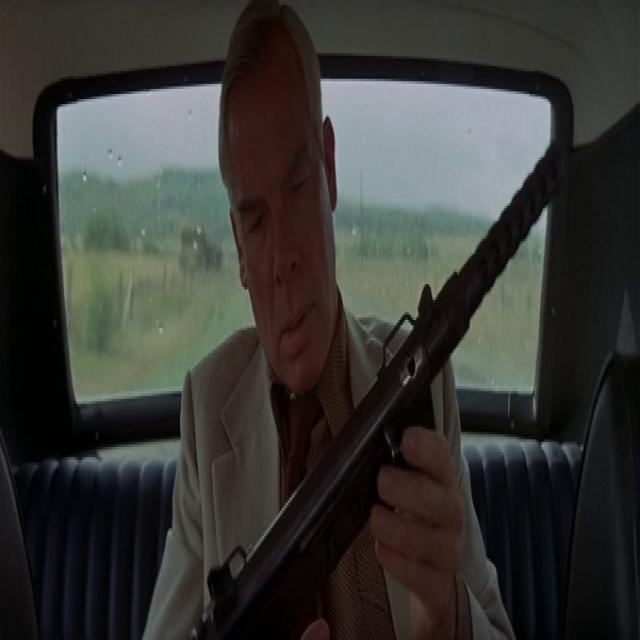rifle: (188, 131, 569, 640)
